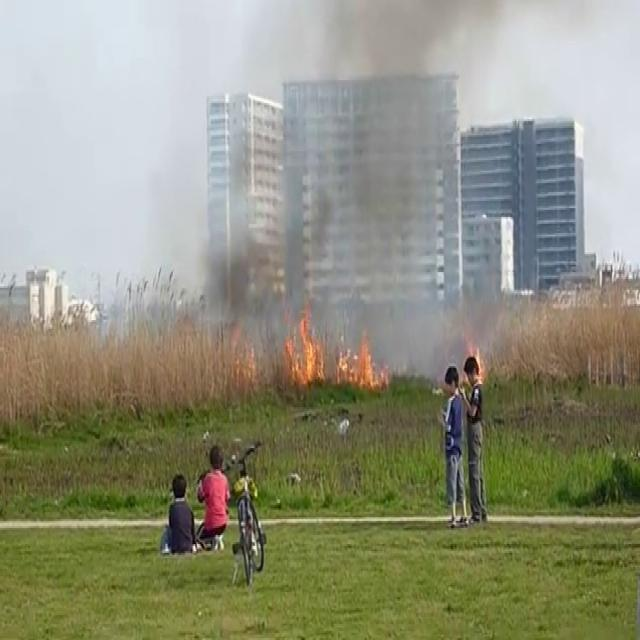Fire: (284, 305, 330, 387), (343, 326, 386, 399)
Smoke: (108, 0, 530, 372)
